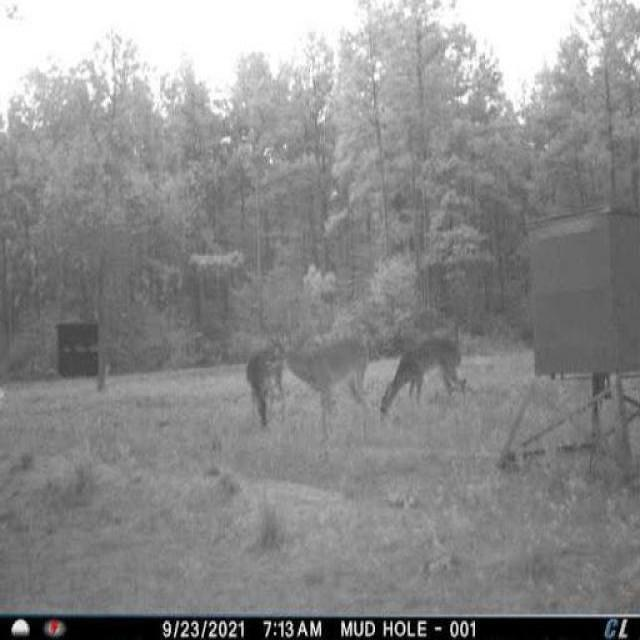deer: (277, 317, 378, 455), (374, 330, 472, 425), (248, 333, 286, 452)
